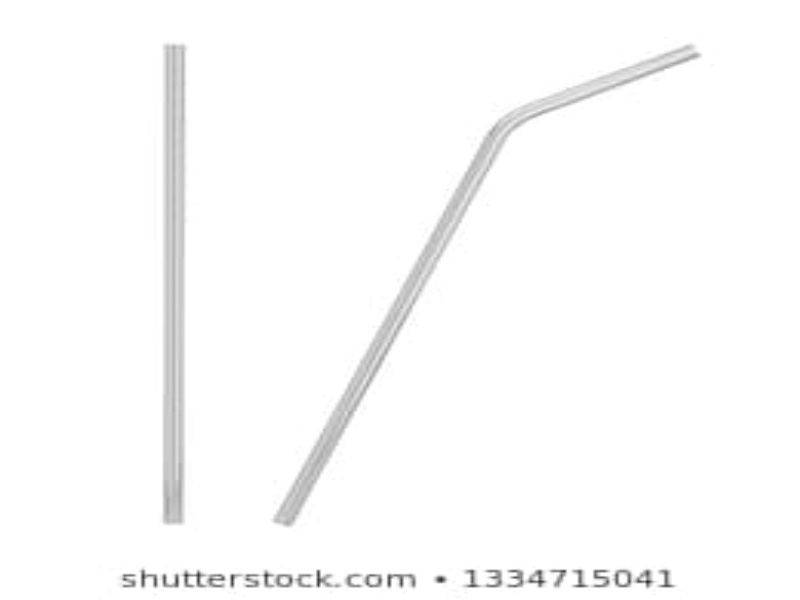straw: (262, 37, 711, 533), (143, 38, 208, 530)
